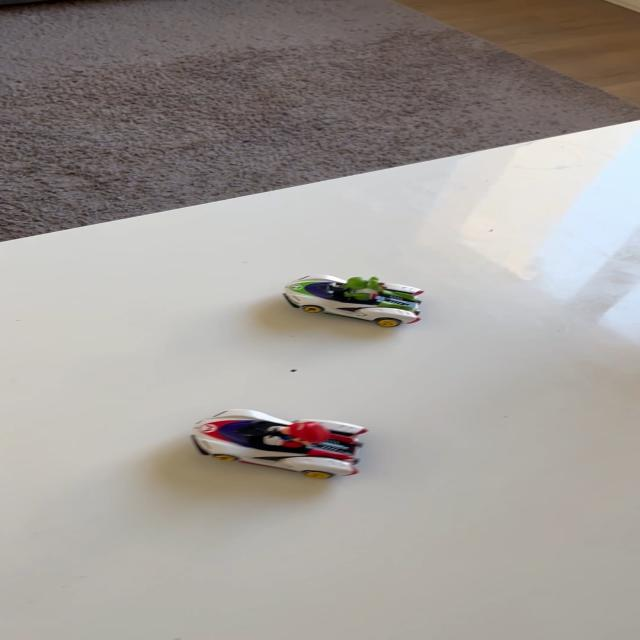mario: (177, 402, 388, 483)
yoshi: (274, 270, 441, 326)
